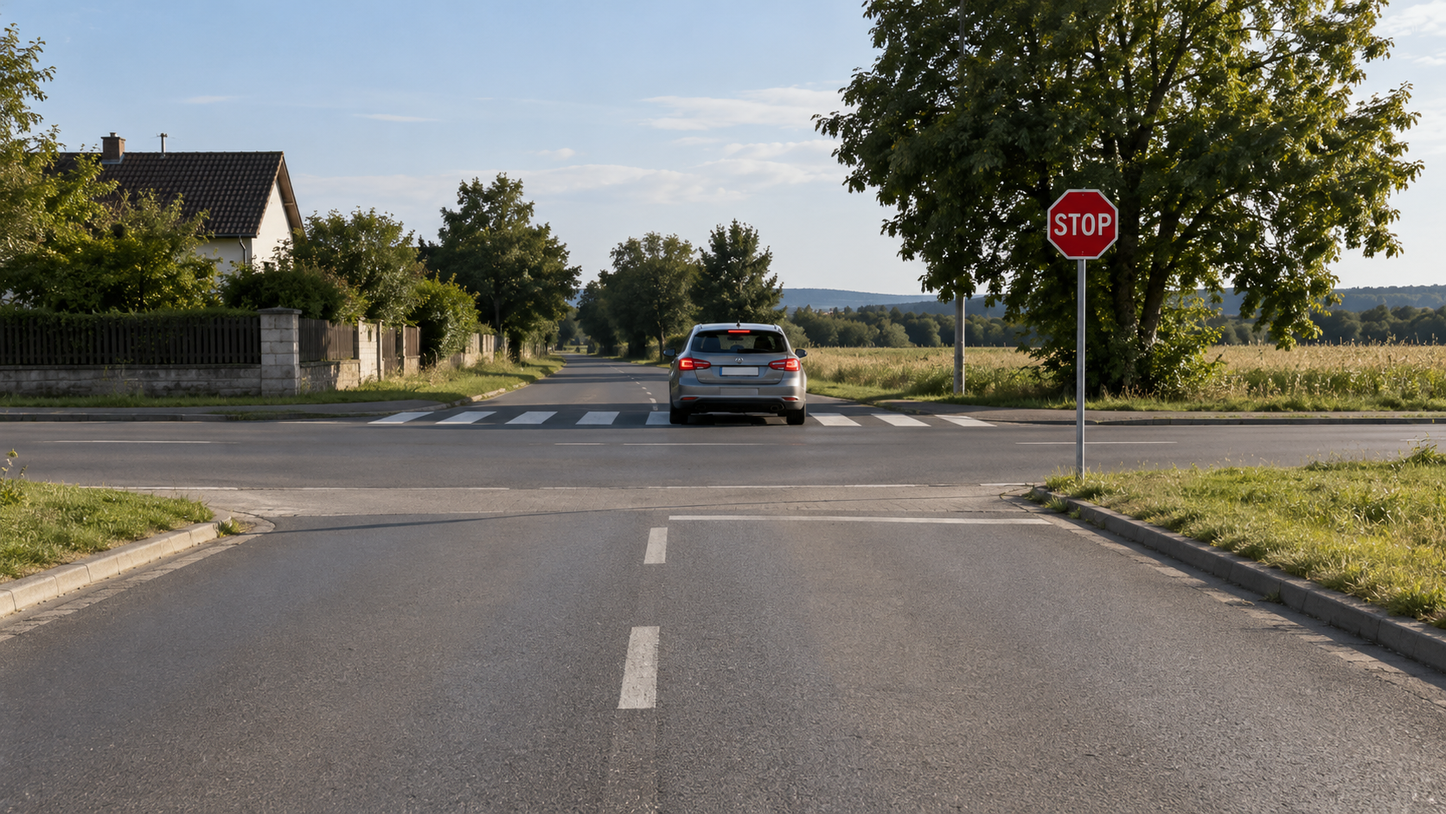car: (723, 86, 800, 131)
stop_sign: (1040, 61, 1116, 144)
zebra_crossing: (0, 128, 1436, 195)
